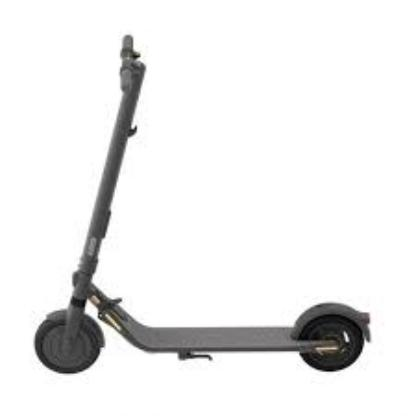bike: (33, 34, 372, 378)
